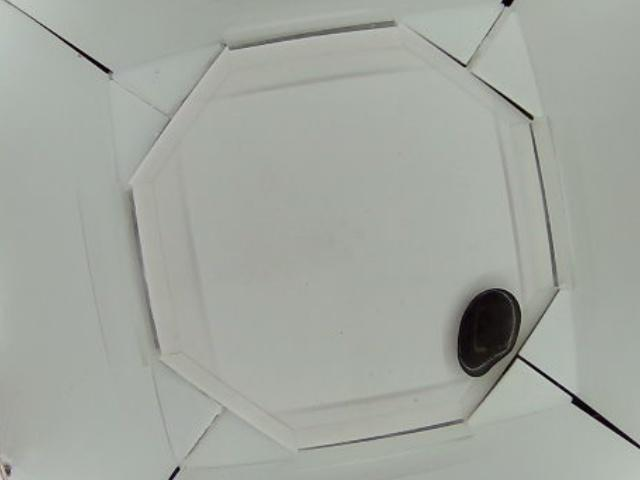Pebble: (455, 290, 523, 377)
